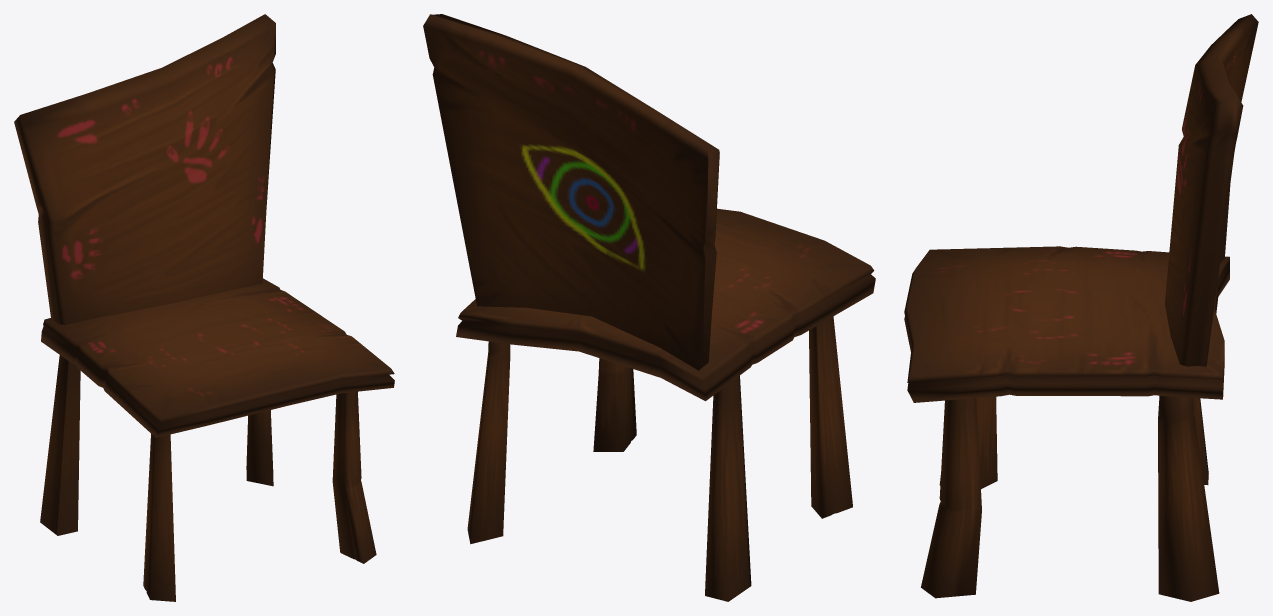
File: Chair_Idle.fbx
3 views of the same model, side by side, from view 1: azimuth 30°, elevation 25°; view 2: azimuth 150°, elevation 25°; view 3: azimuth 270°, elevation 25° (orthographic). The views are drawn at different scales.
Parts seen in each view (by area): view 1: chair; view 2: chair; view 3: chair.
Boxes of the visible parts, x1=… form: chair: x1=14, y1=14, x2=394, y2=601; chair: x1=423, y1=14, x2=875, y2=601; chair: x1=904, y1=14, x2=1258, y2=601.
Size of the model in its own units: 8.09 by 13.83 by 8.63.
Materials: 1 (1 with a texture image).
